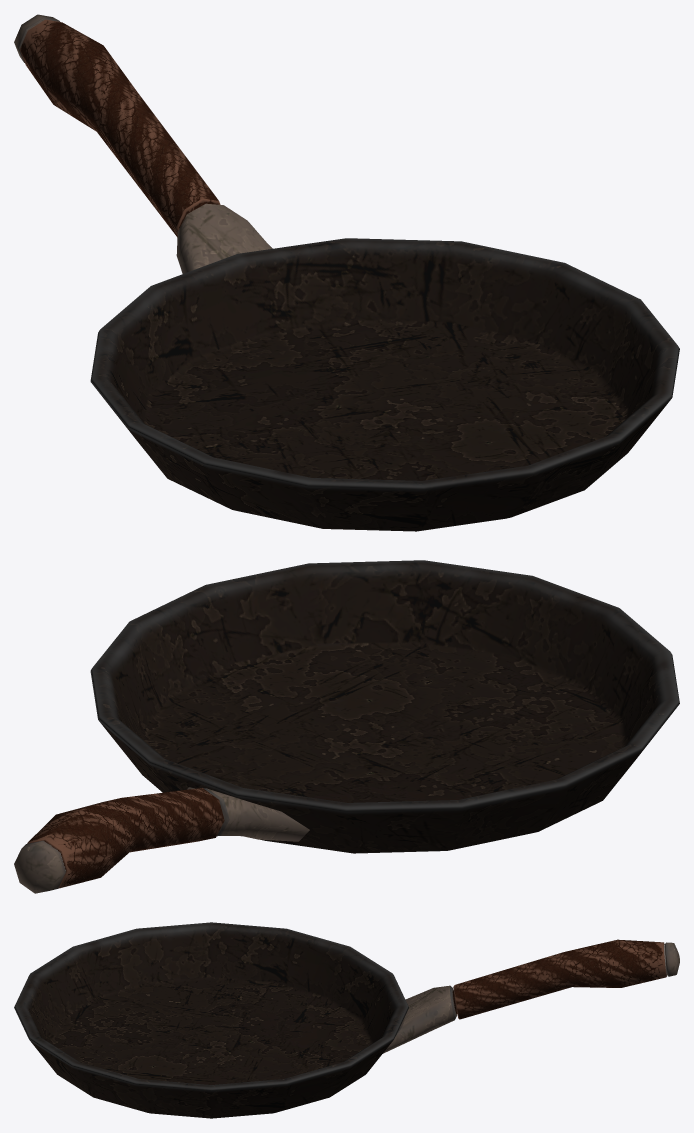
Rendered from Frying_pan.fbx.
3 renders of one model, top to bottom at view 1: azimuth 30°, elevation 25°; view 2: azimuth 150°, elevation 25°; view 3: azimuth 270°, elevation 25°, orthographic. The views are drawn at different scales.
Visible parts, largest first — view 1: Fryng_Pan; view 2: Fryng_Pan; view 3: Fryng_Pan.
Part boxes in pixels (x1,y1,x2,y2): Fryng_Pan: [14, 14, 679, 531]; Fryng_Pan: [14, 560, 679, 893]; Fryng_Pan: [14, 922, 679, 1118].
Bounding box in the file's own units: 477 × 147 × 804.
